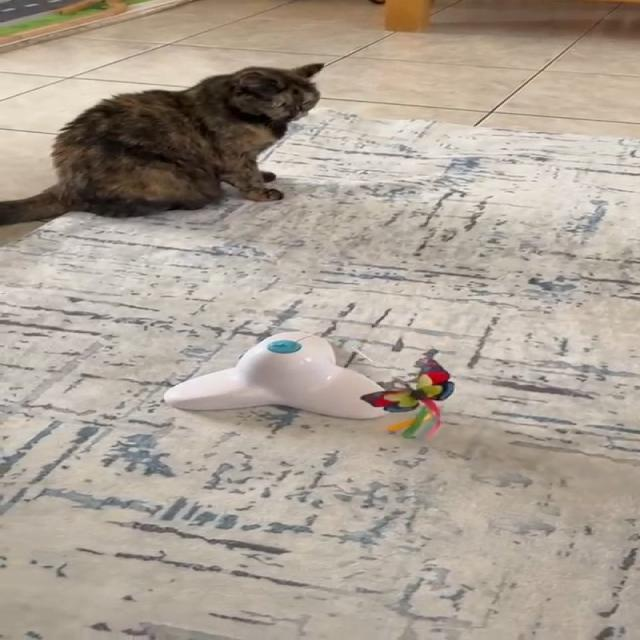authorized: (0, 62, 324, 226)
